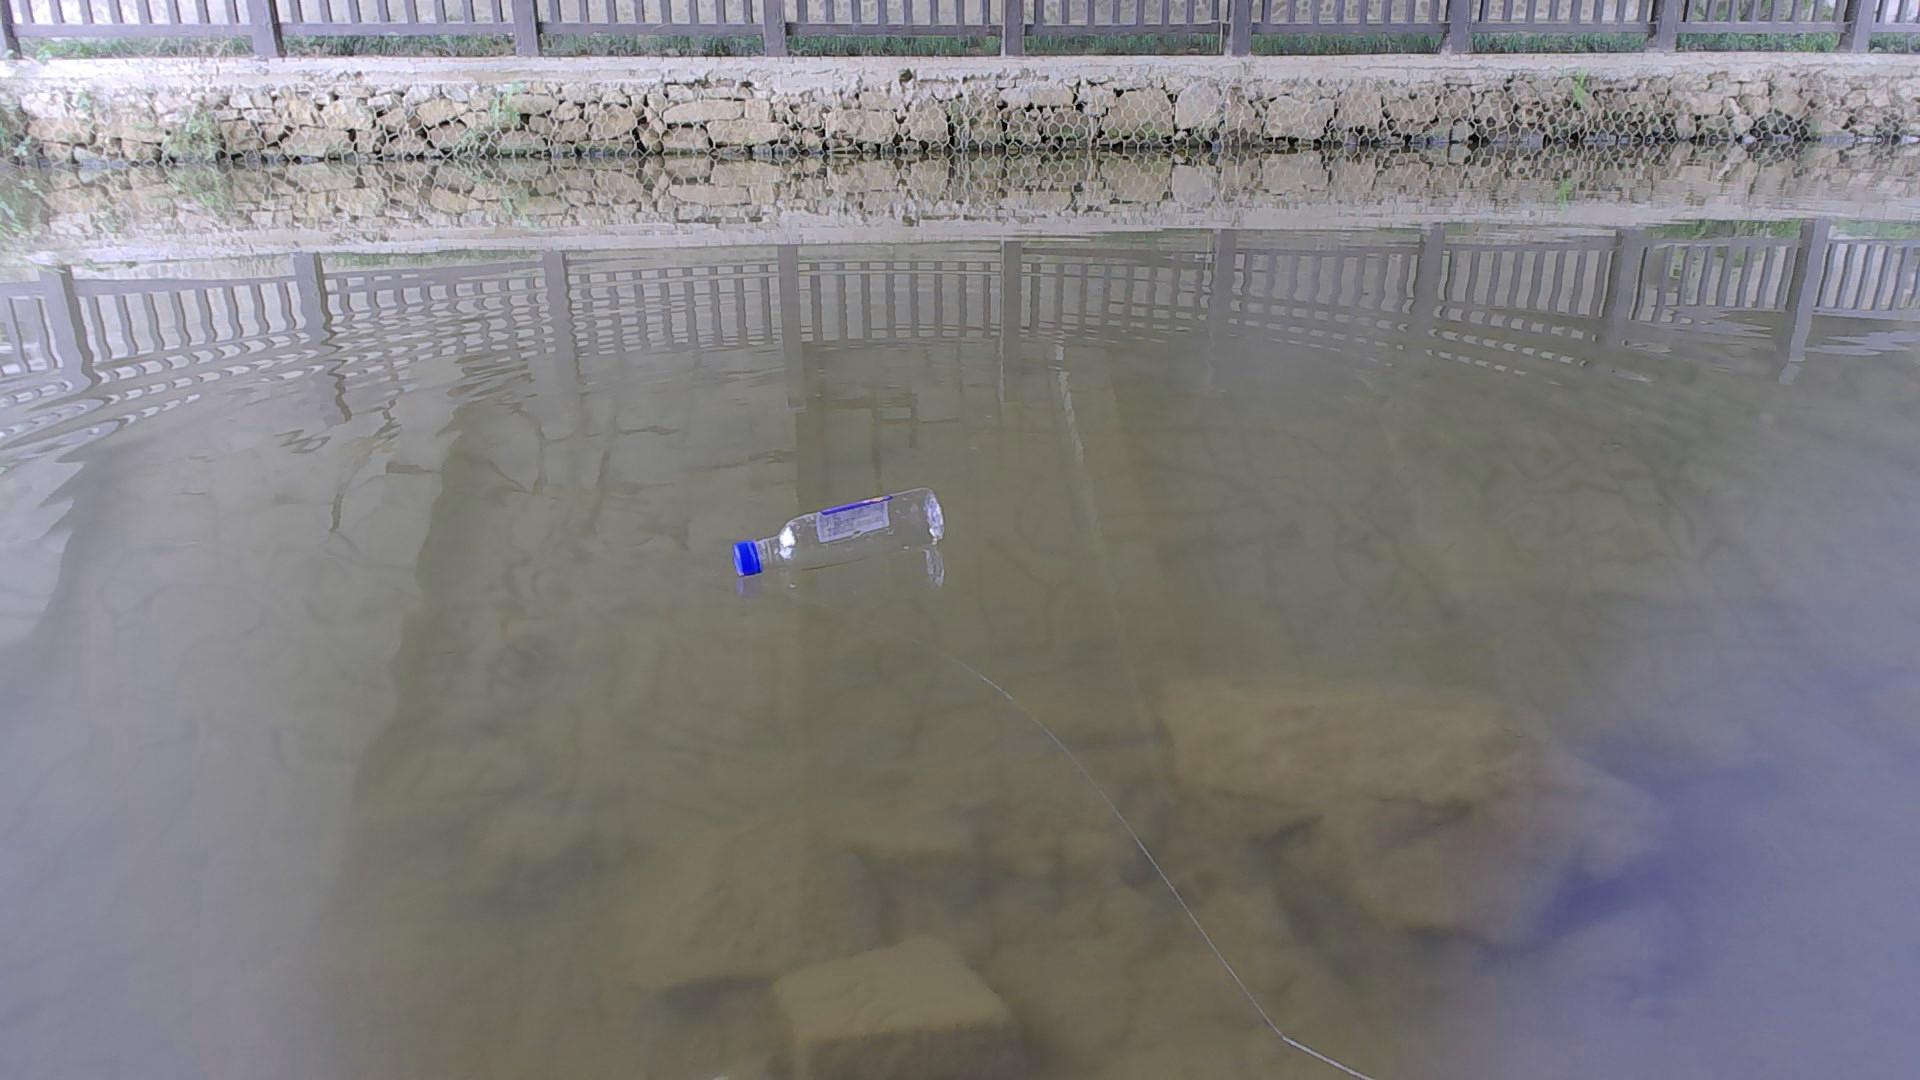Plastic: (729, 476, 947, 582)
